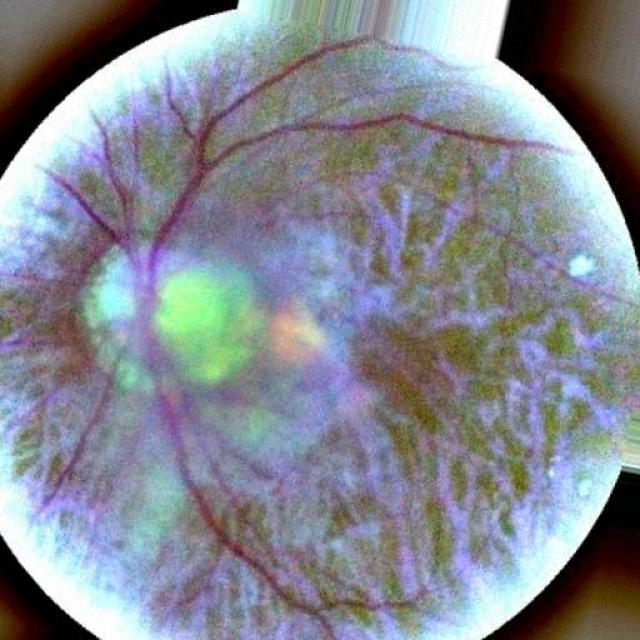Nerves: (67, 65, 504, 624)
Optic Disk: (82, 237, 249, 388)
